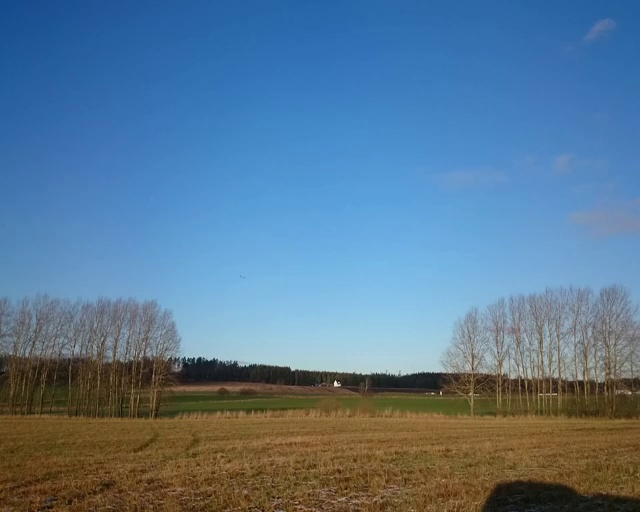DRONE: (239, 274, 246, 279)
